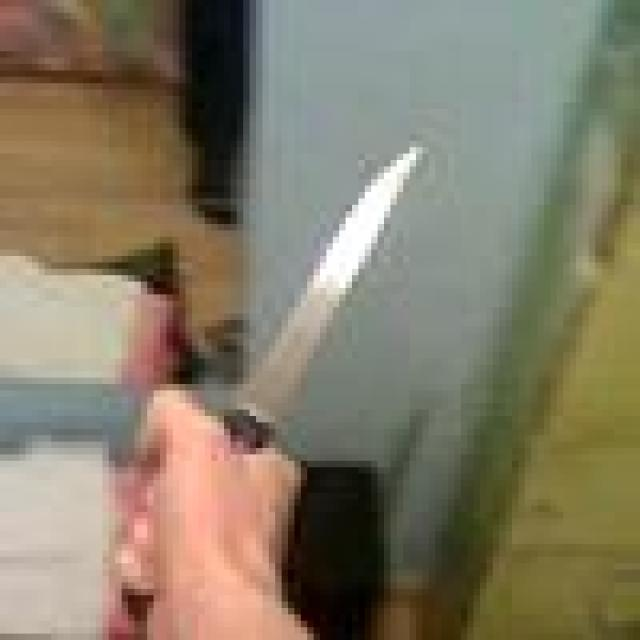faca: (96, 90, 461, 620)
